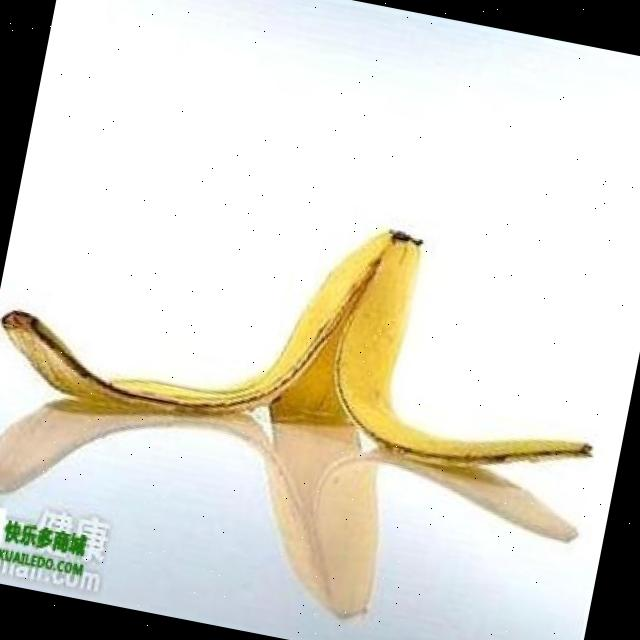banana-peel: (0, 156, 627, 501), (318, 222, 628, 493)
